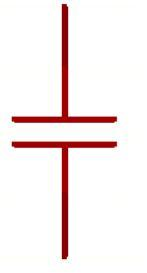Capacitor: (2, 90, 115, 172)
